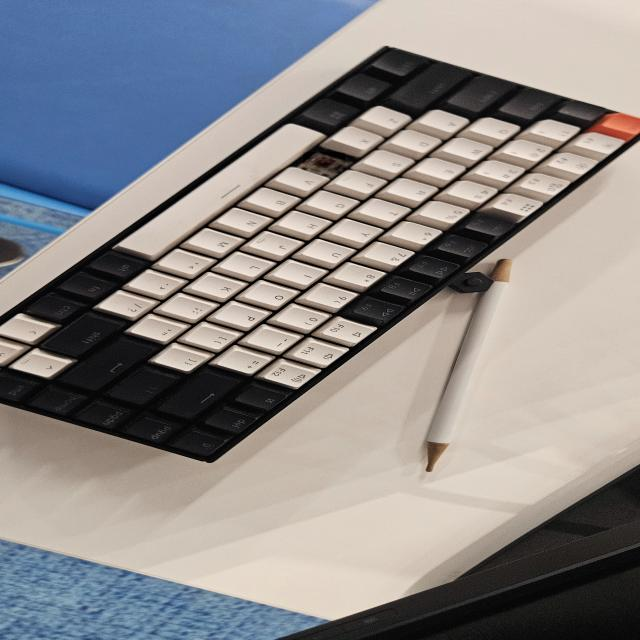C: (303, 152, 345, 171)
